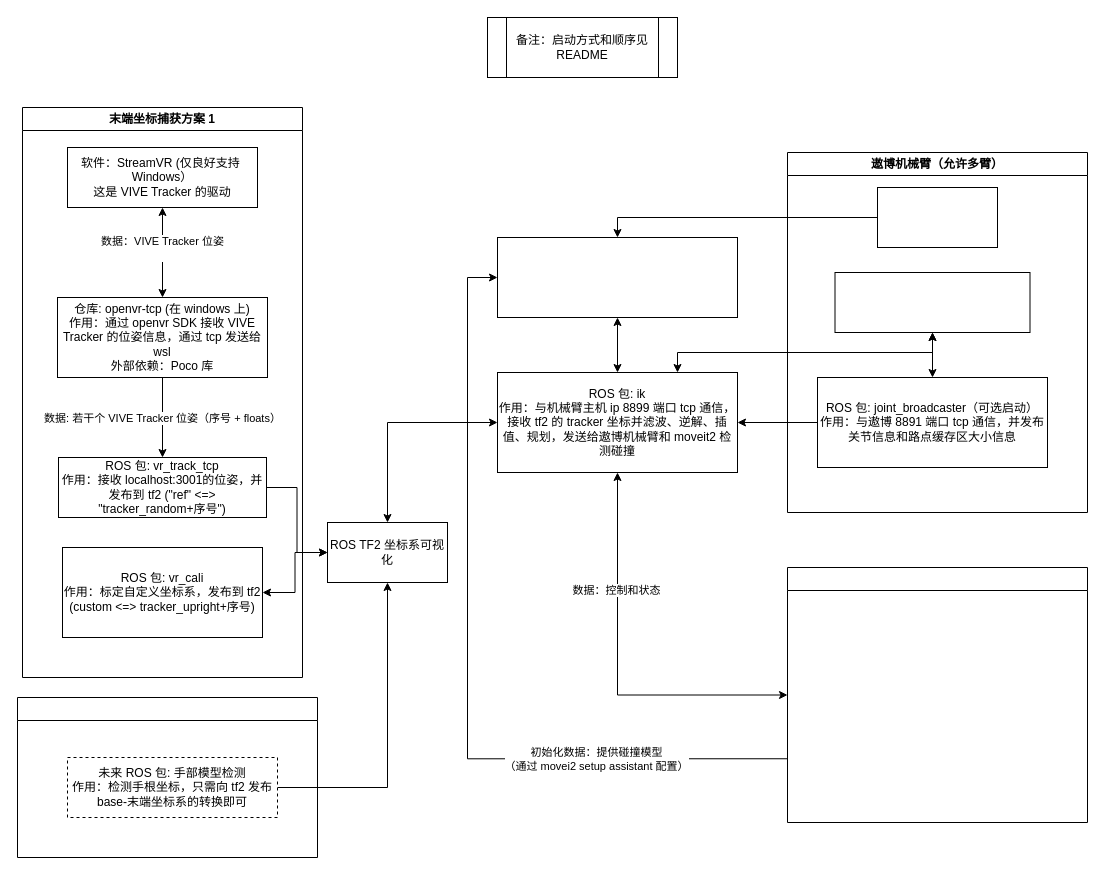
The diagram is 1105 pixels wide and 875 high, and some of its shapes have lost their labels. Here are the shapes that lost their labels. From the top down, the box of each, then its label:
(876, 186, 998, 248): ROS 包: aubo_dual3 作用: 提供碰撞模型
(496, 236, 738, 318): ROS moveit2 作用：接收碰撞模型和机械臂实时信息，提供碰撞检测和 planning
(834, 272, 1030, 332): 遨博机械臂主机
(786, 566, 1088, 822): 其他类型机械臂（可 7 轴，但 ik 包需要做额外抽象）
(16, 696, 318, 858): 末端坐标捕获方案 2
